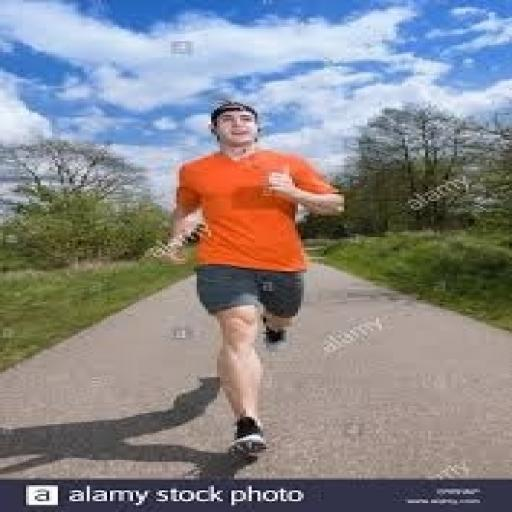running: (153, 99, 350, 460)
